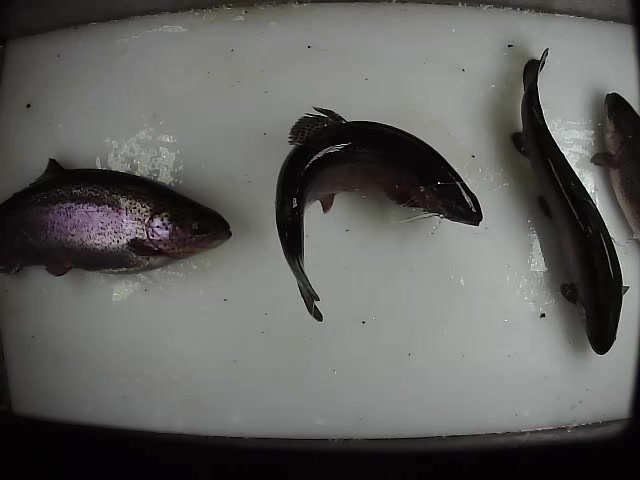fish: (272, 105, 485, 325), (507, 45, 630, 358), (1, 154, 234, 279), (587, 89, 640, 247)
